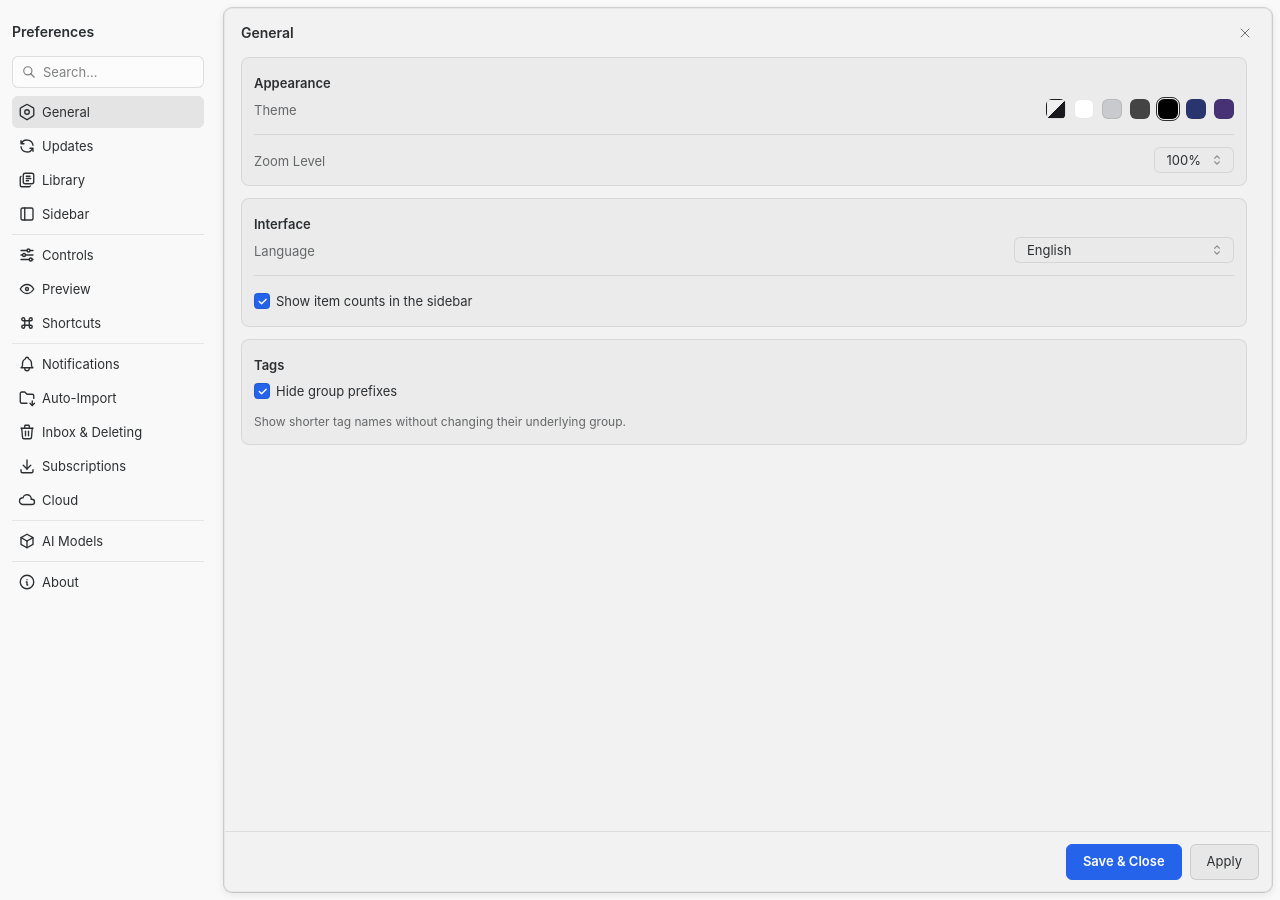
Settings › preloads Cloud and AI Models before navigation without a loading-frame replacement
This screenshot has width=1280, height=900.
Click the button "Cloud".
click(108, 500)  # box [12,484,204,516]
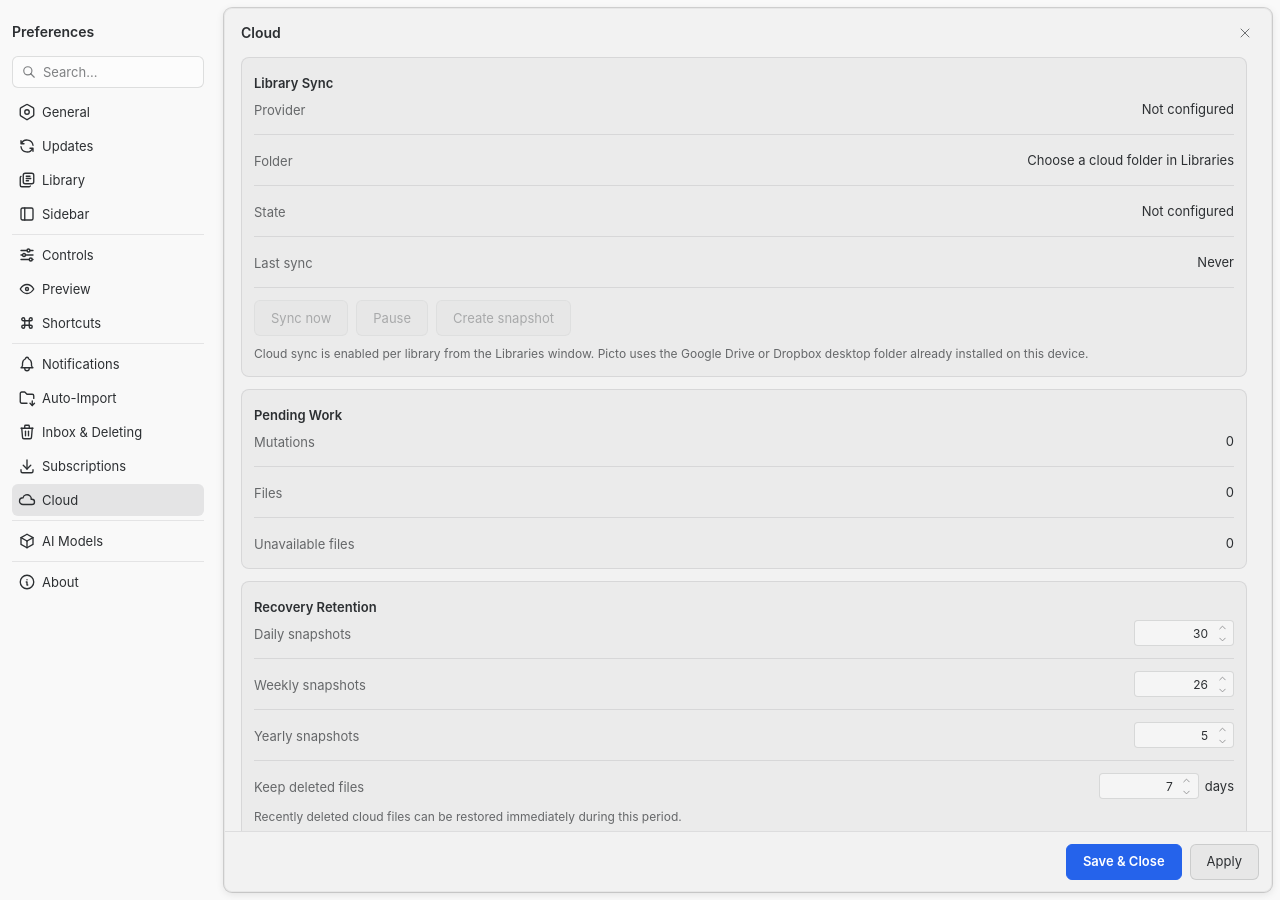
Check: the text "Library Sync" is shown, box [254,75,333,91]
Click the button "AI Models".
click(108, 541)  # box [12,525,204,557]
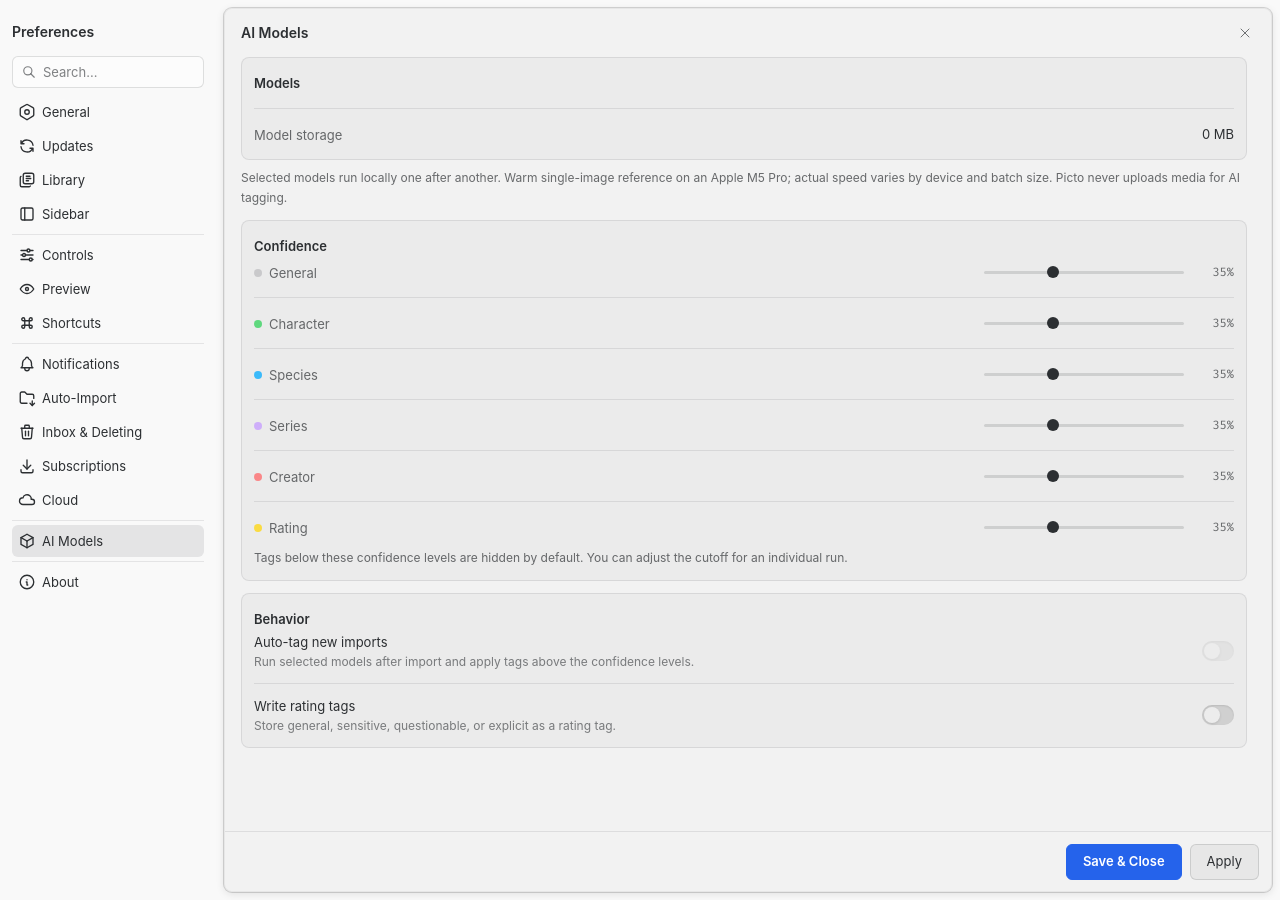
Check: the text "Models" is shown, box [254,75,300,91]
